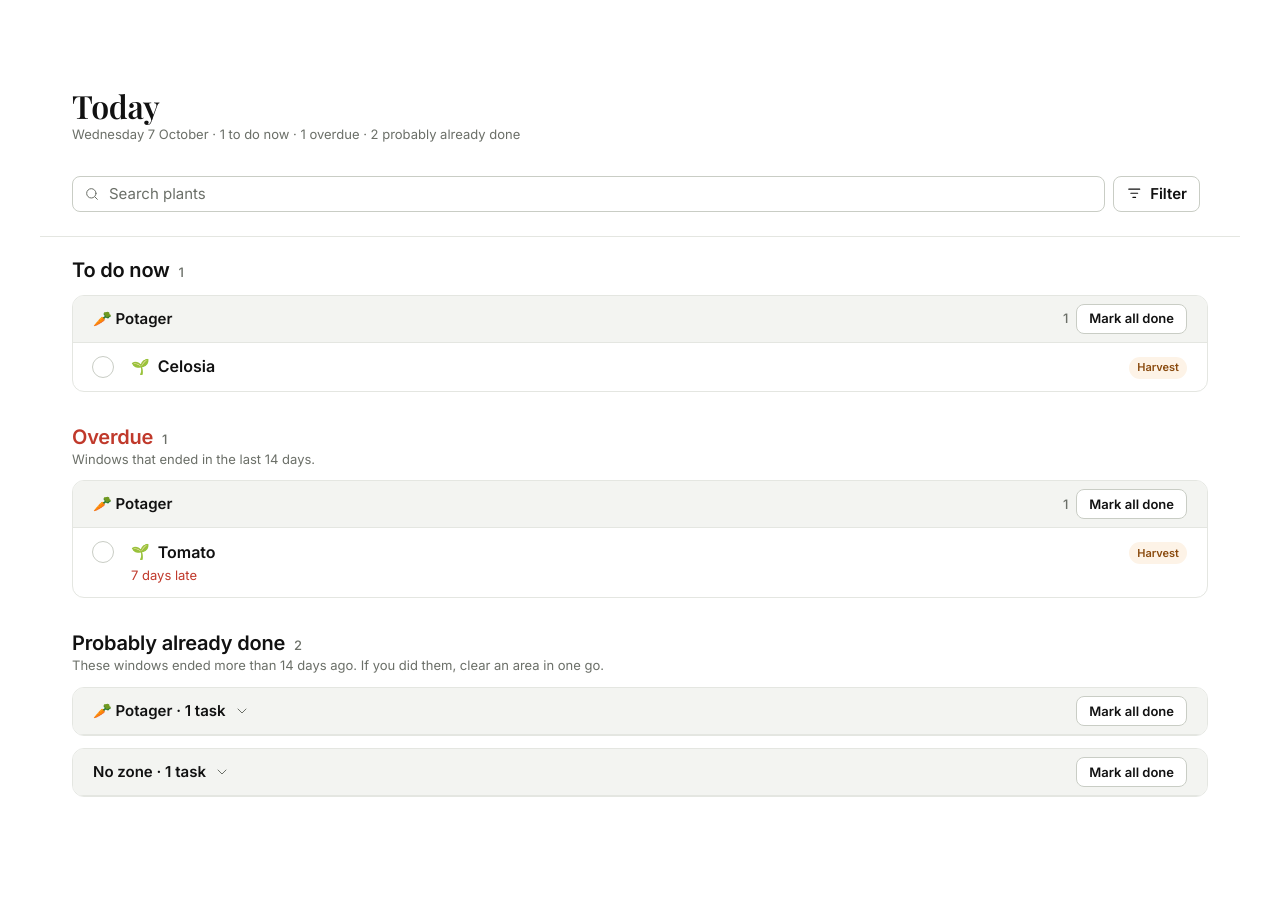
Test case: Today › filters by task type from the sheet, including plants with no zone
Click the button "Filter" at (1156, 194), box x1=1113 y1=176 x2=1200 y2=212
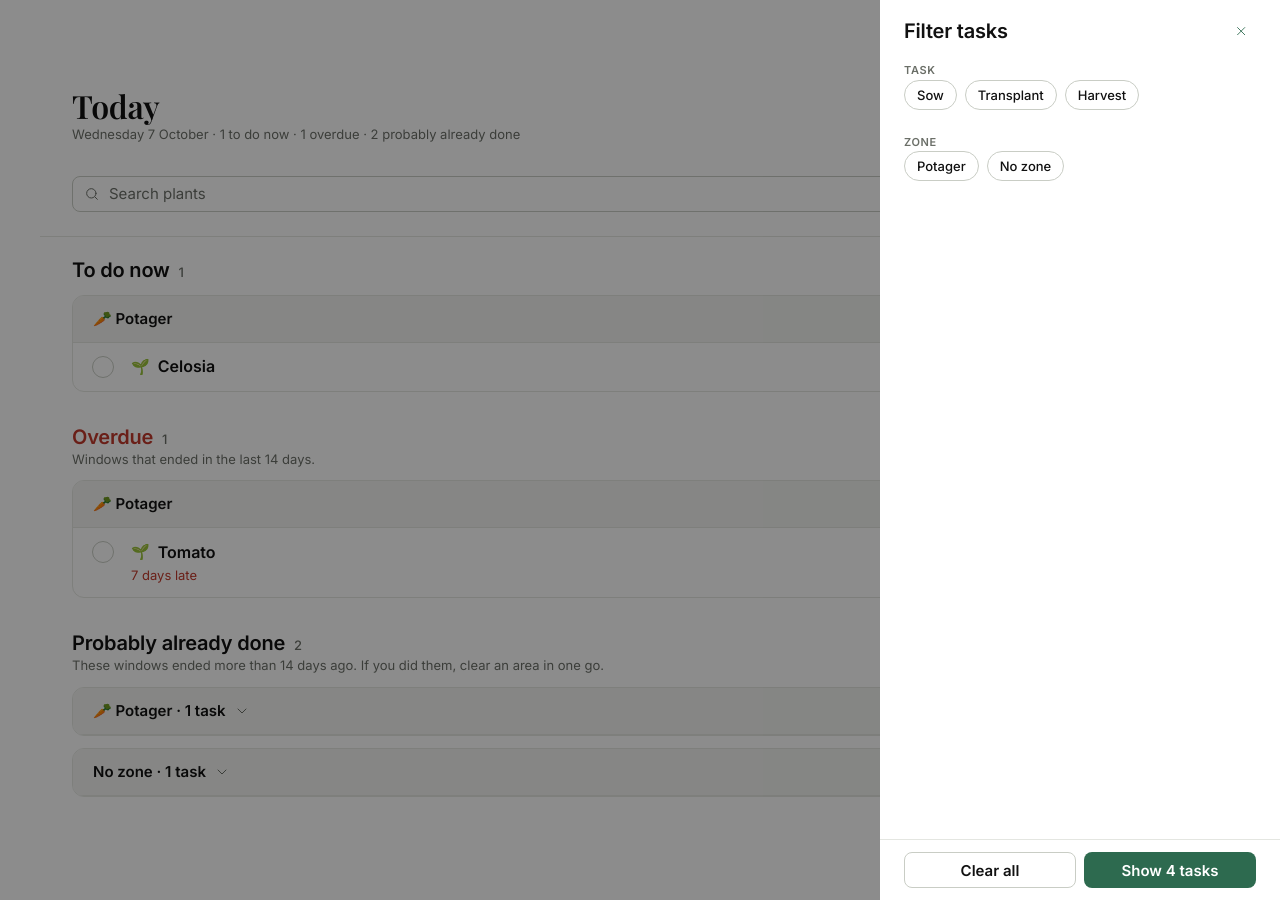
Click the button "No zone" at (1025, 166), box x1=987 y1=151 x2=1064 y2=181
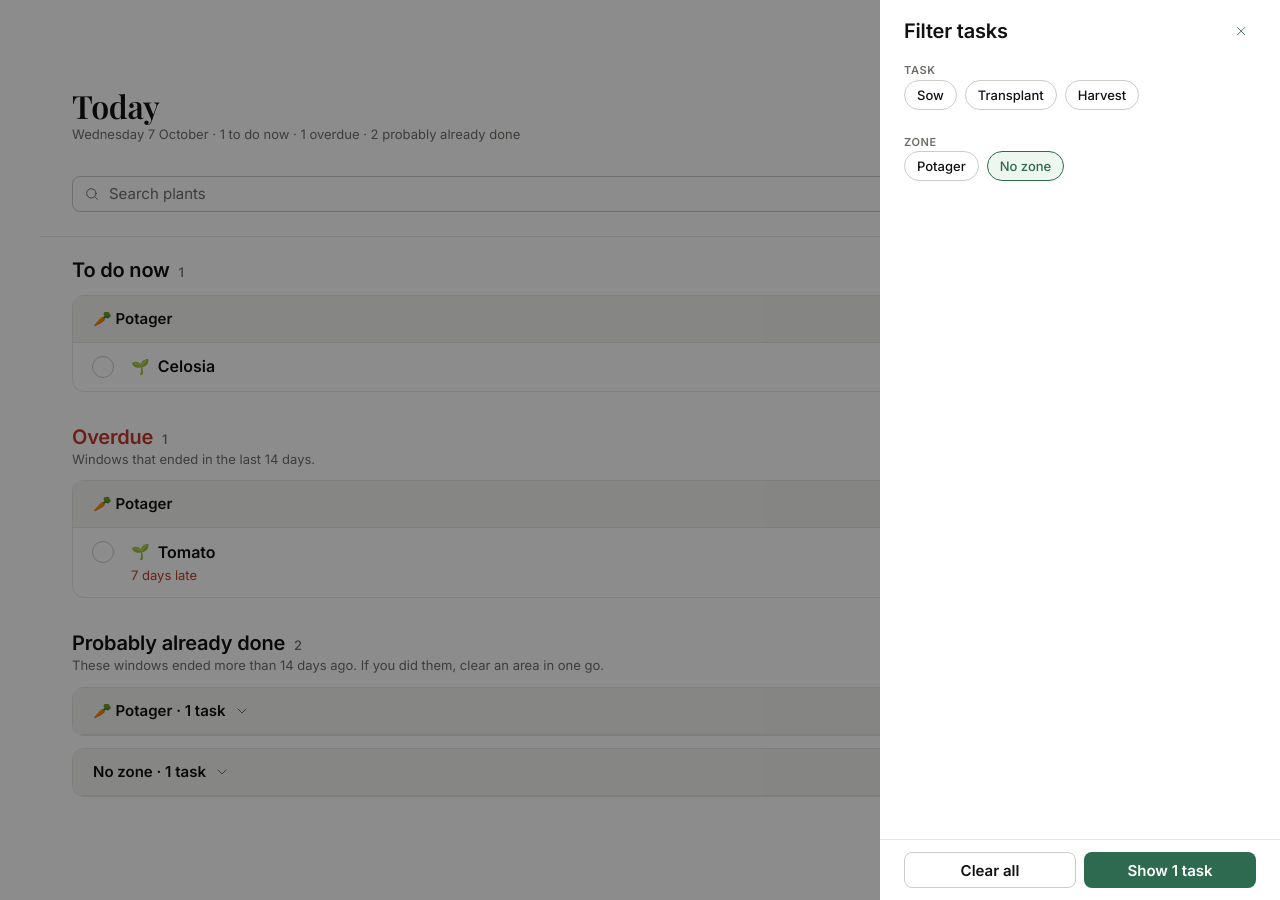
Click the button "Show 1 task" at (1170, 870), box x1=1084 y1=852 x2=1256 y2=888
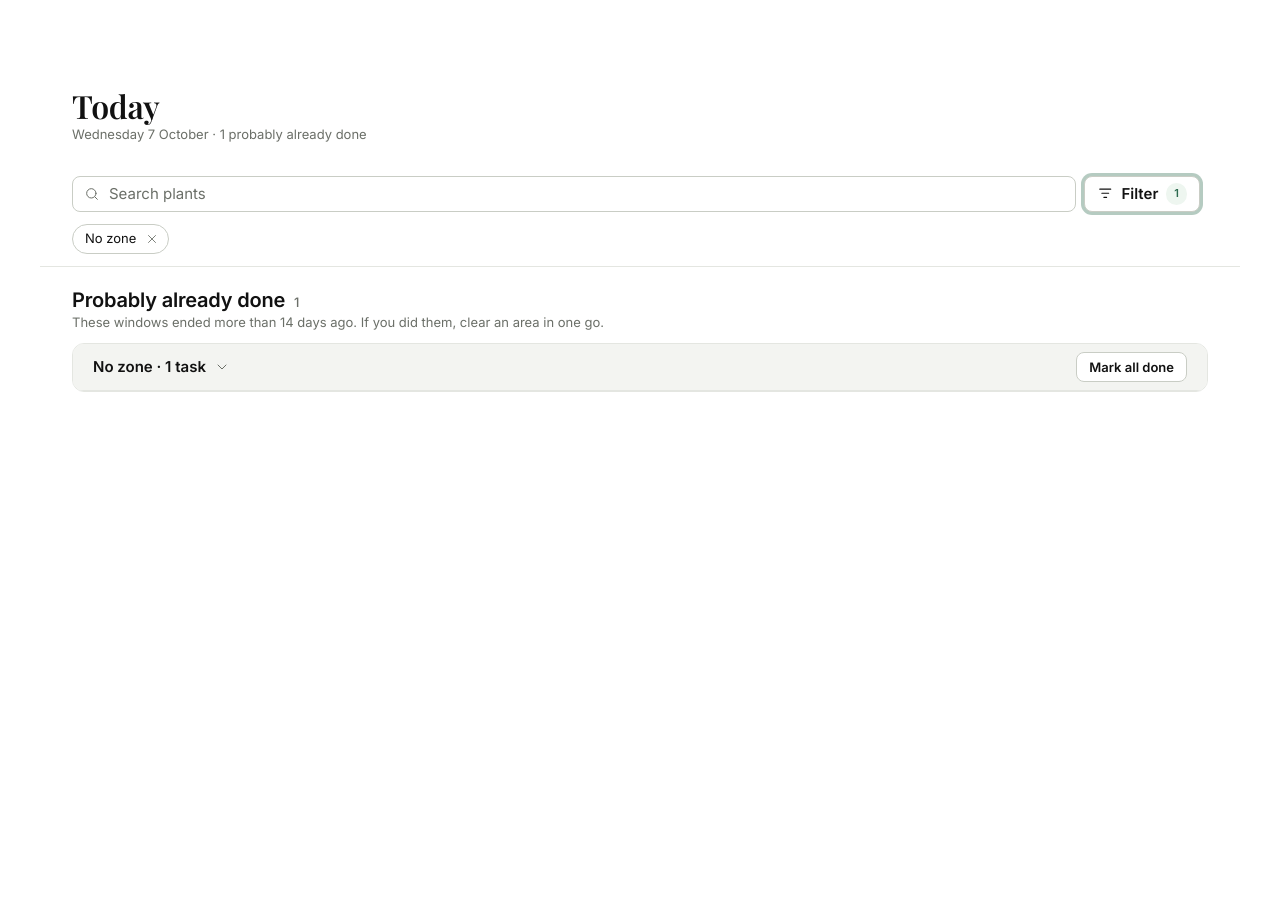
Now the link "Celosia" is gone
Now the button named "Remove No zone" is shown, box x1=140 y1=227 x2=164 y2=251
Now the text "Wednesday 7 October · 1 probably already done" is shown, box x1=72 y1=125 x2=367 y2=144
